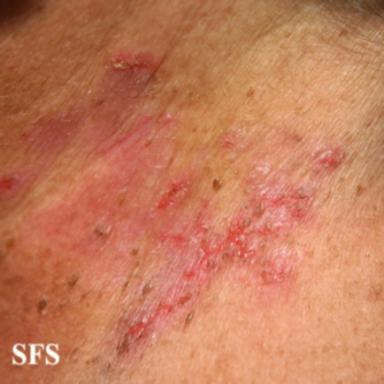Hailey-Hailey-Disease: (120, 141, 346, 353), (101, 51, 161, 99)
